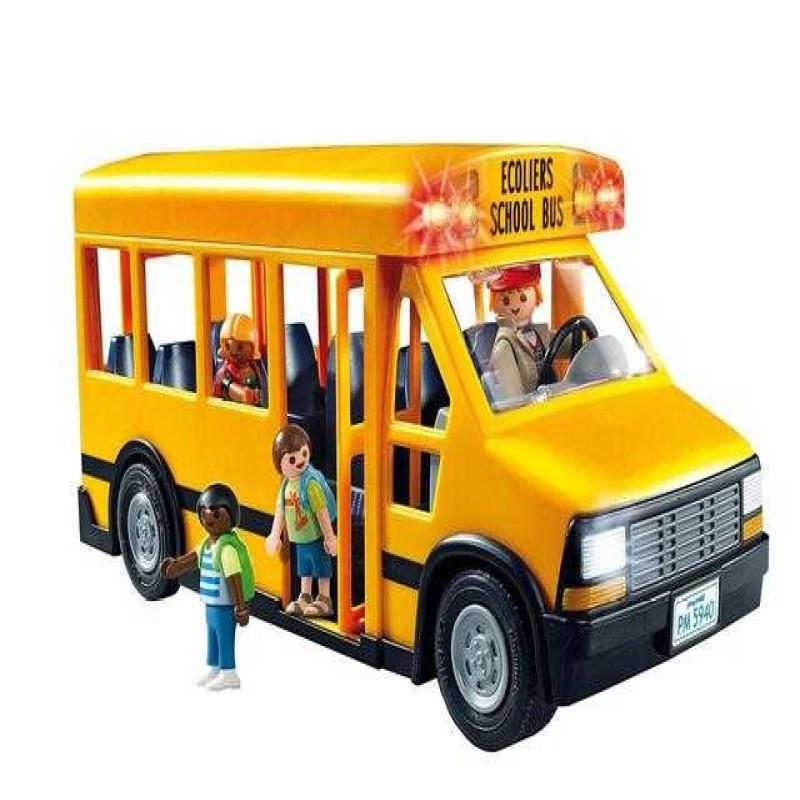bus: (82, 115, 710, 709)
